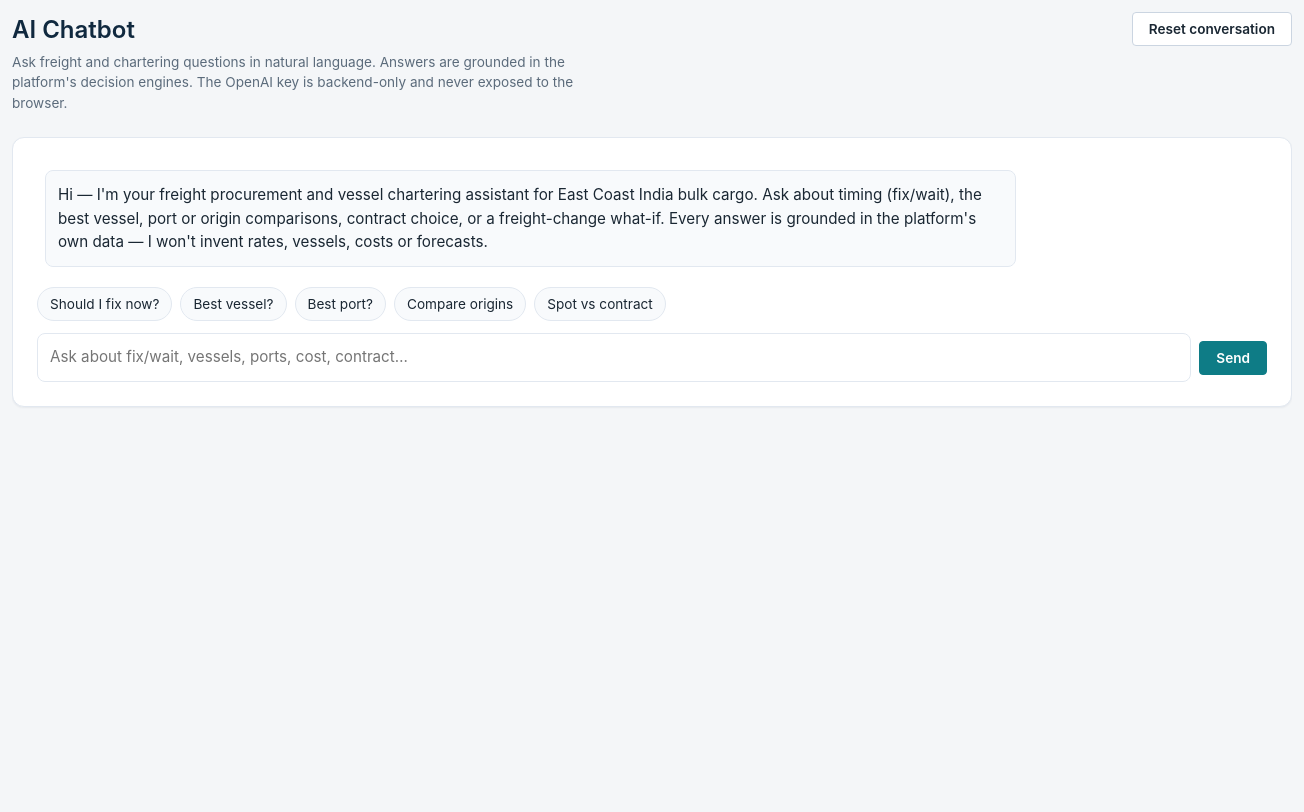
Test case: ChatbotPage › sends a message and renders the grounded answer
This screenshot has width=1304, height=812.
Type "Should I fix?" into the field named "Chat message" at [614, 358], box [37,333,1191,382]
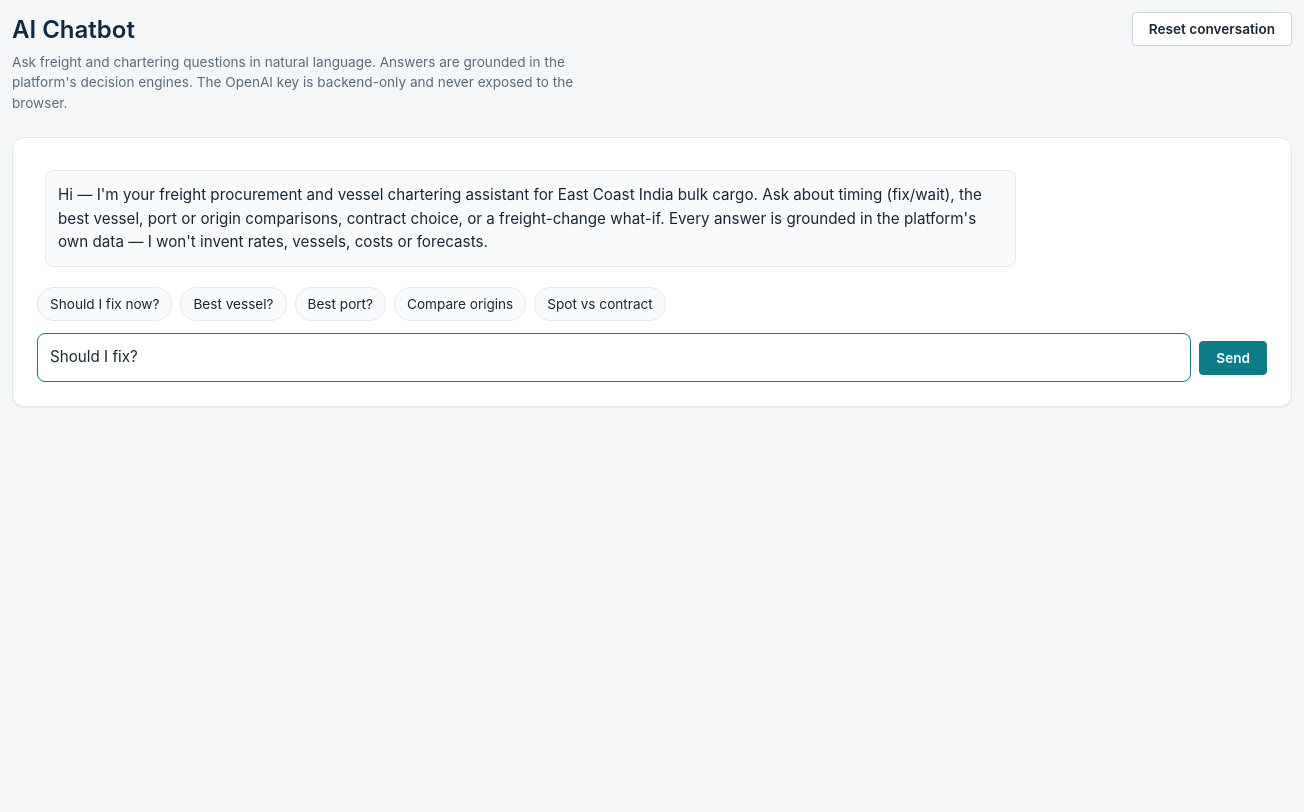
Click the button "Send" at [1233, 358], box [1199,341,1267,375]
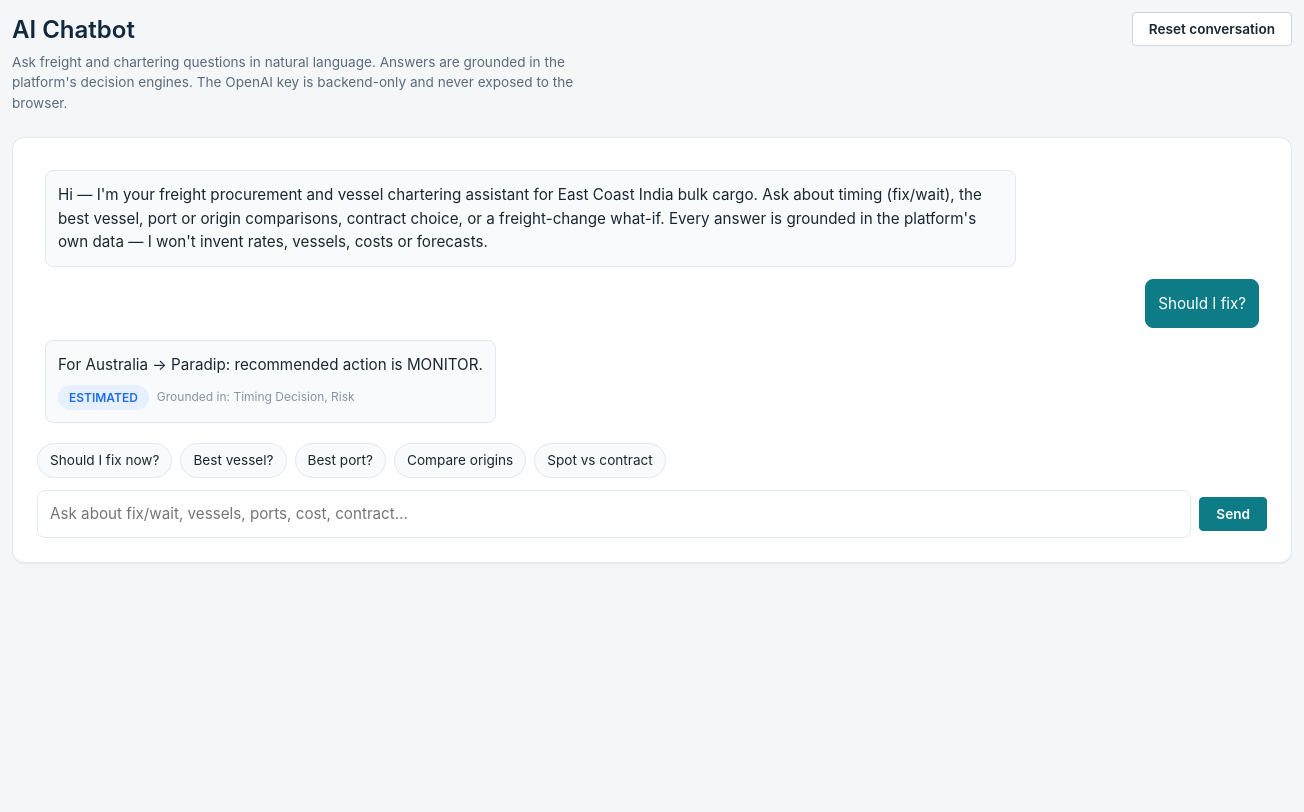
Expected: the text "For Australia → Paradip: recommended action is MONITOR." is shown, [58,353,483,377]
Expected: the text "Grounded in: Timing Decision, Risk" is shown, [157,388,355,407]
